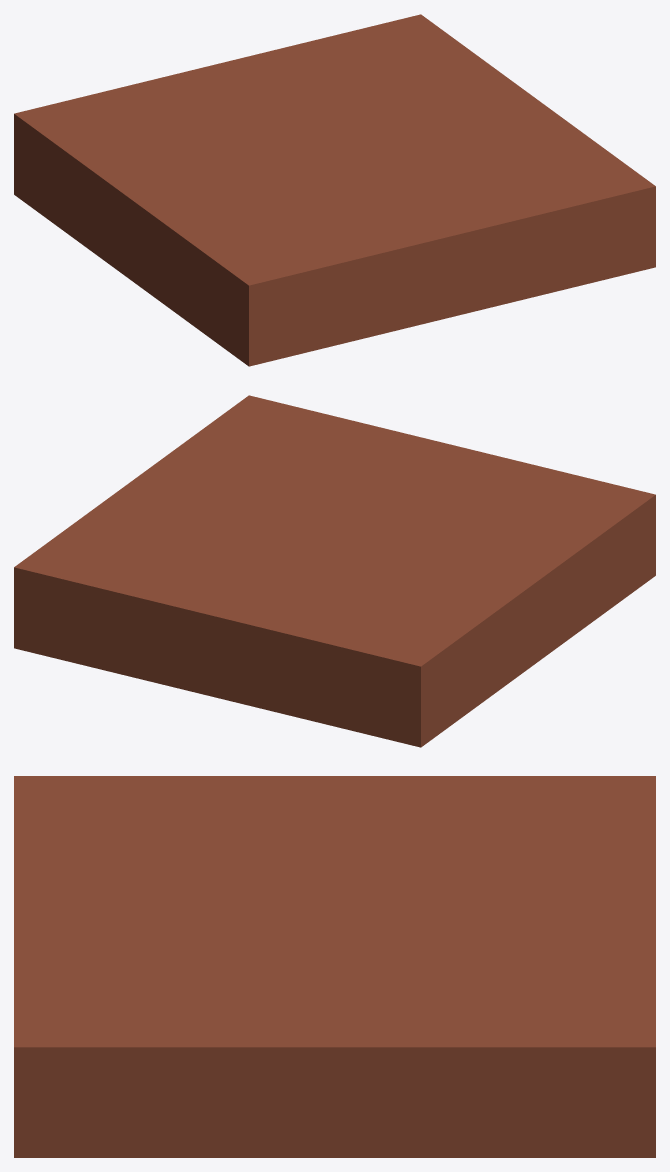
Rendered from praline_gift_box_lid.glb.
3 views of the same model, one above another, from view 1: azimuth 30°, elevation 25°; view 2: azimuth 150°, elevation 25°; view 3: azimuth 270°, elevation 25° (orthographic). The views are drawn at different scales.
Visible parts, largest first — view 1: praline_gift_box_lid_accent; view 2: praline_gift_box_lid_accent; view 3: praline_gift_box_lid_accent.
Boxes of the visible parts, bbox=[...] form: praline_gift_box_lid_accent: bbox=[14, 14, 655, 366]; praline_gift_box_lid_accent: bbox=[14, 395, 655, 747]; praline_gift_box_lid_accent: bbox=[14, 776, 655, 1157].
Size of the model in its own units: 0.1472 by 0.028 by 0.1472.
